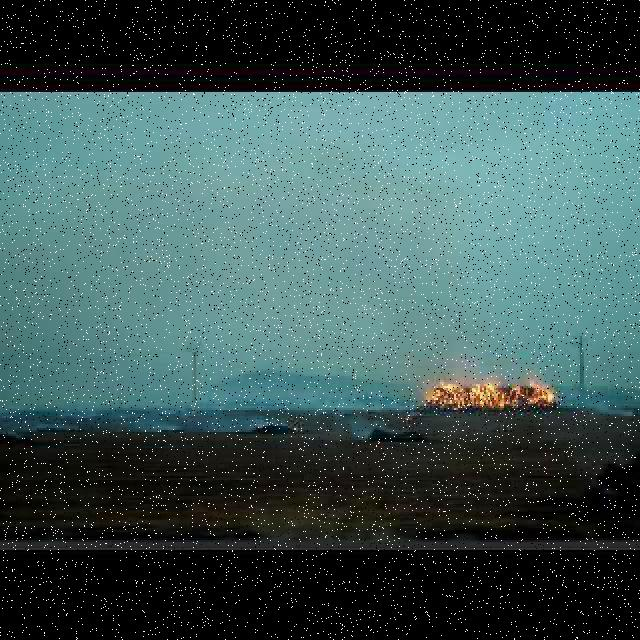fire: (439, 382, 552, 408)
